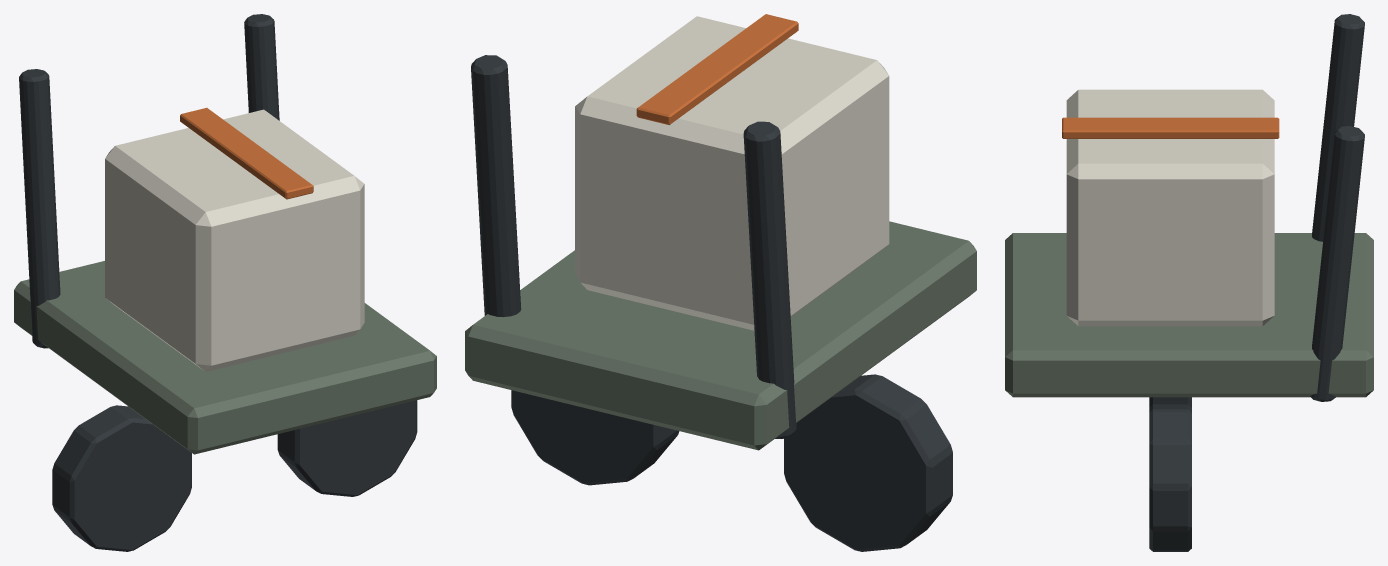
File: PRP_CITY_018_delivery_handcart.glb
3 views of the same model, side by side, from view 1: azimuth 30°, elevation 25°; view 2: azimuth 150°, elevation 25°; view 3: azimuth 270°, elevation 25° (orthographic). The views are drawn at different scales.
Parts seen in each view (by area): view 1: PRP_CITY_018_delivery_handcart_RenderMesh; view 2: PRP_CITY_018_delivery_handcart_RenderMesh; view 3: PRP_CITY_018_delivery_handcart_RenderMesh.
Boxes of the visible parts, bbox=[...] form: PRP_CITY_018_delivery_handcart_RenderMesh: bbox=[14, 14, 436, 551]; PRP_CITY_018_delivery_handcart_RenderMesh: bbox=[465, 14, 976, 551]; PRP_CITY_018_delivery_handcart_RenderMesh: bbox=[1005, 14, 1373, 551].
Size of the model in its own units: 0.8643 by 0.9701 by 0.78.
